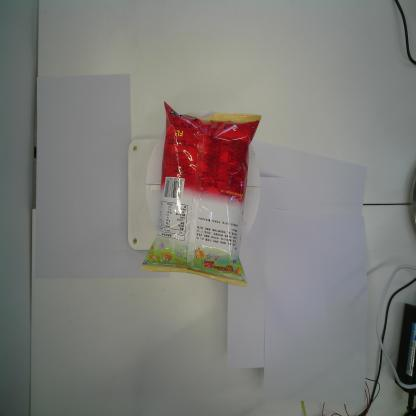Puffed Food: (139, 96, 264, 292)
